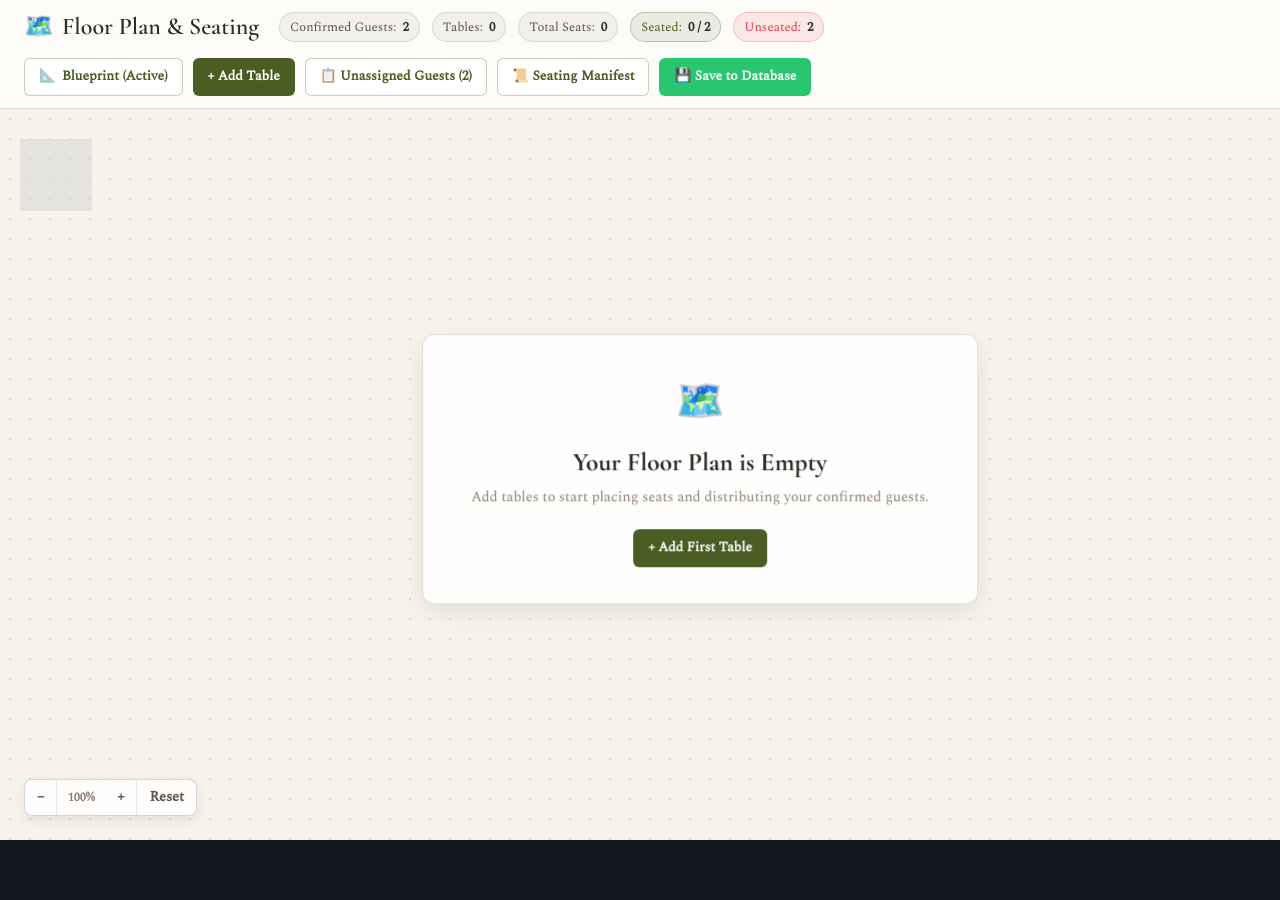
FloorPlanView Component › renders reference blueprint layer on canvas and allows adjusting opacity, scale, visibility, and removal
# Open reference controls panel
Click the button with test id "toggle-reference-controls-btn".
click(103, 77)  # box [24,58,183,96]
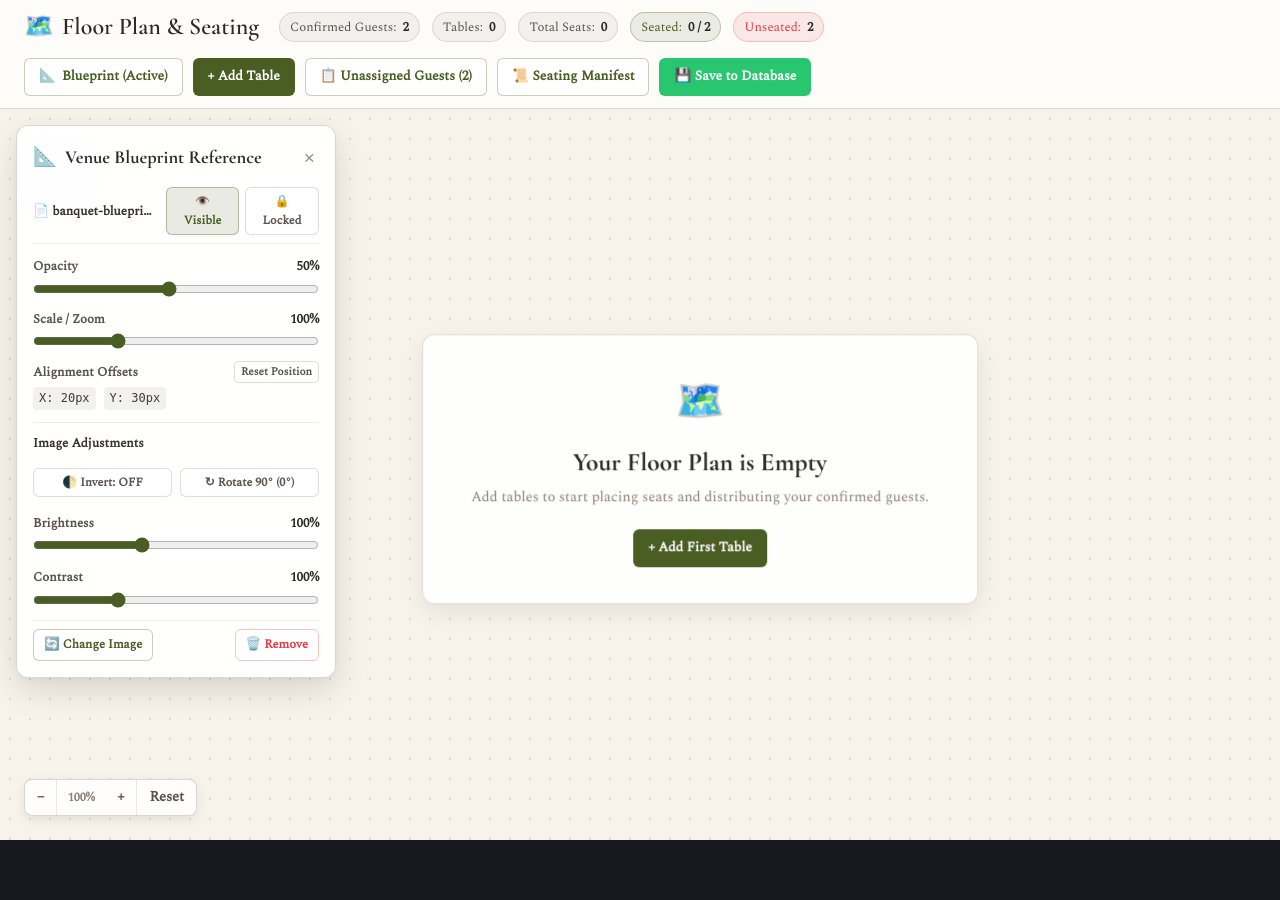
Check: the element with test id "blueprint-controls-panel" is shown, box [16,125,336,678]
Check: the text "📄 banquet-blueprint.png" is shown, box [33,201,158,221]
# Toggle visibility off
Click the button with test id "toggle-blueprint-visibility".
click(202, 211)  # box [166,187,239,235]
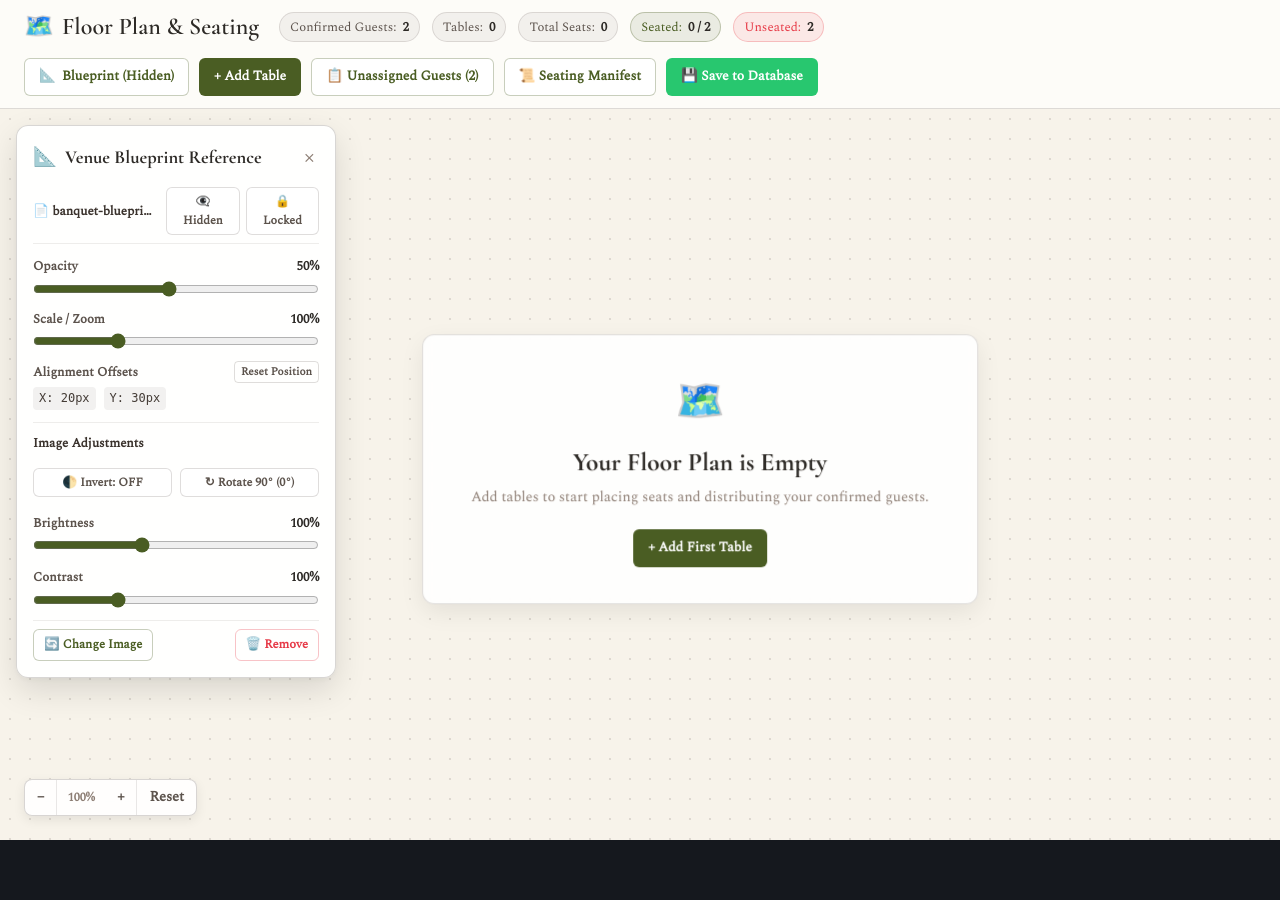
# Toggle visibility back on
Click the button with test id "toggle-blueprint-visibility".
click(203, 211)  # box [166,187,240,235]
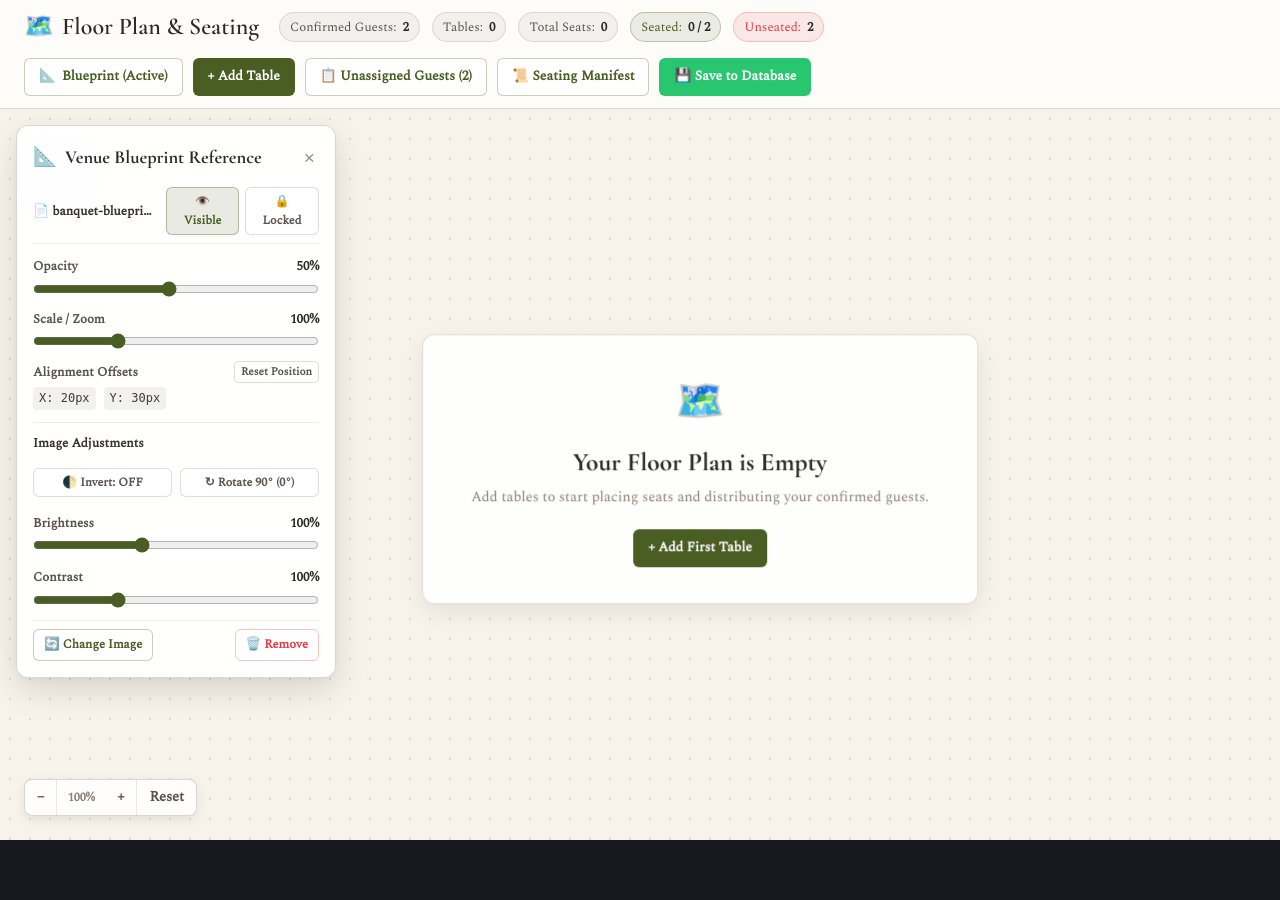
# Adjust Opacity slider
Set the slider with test id "blueprint-opacity-slider" to "0.8" at (254, 289), box [33,281,319,297]
# Adjust Scale slider
Set the slider with test id "blueprint-scale-slider" to "1.4" at (157, 341), box [33,333,319,349]
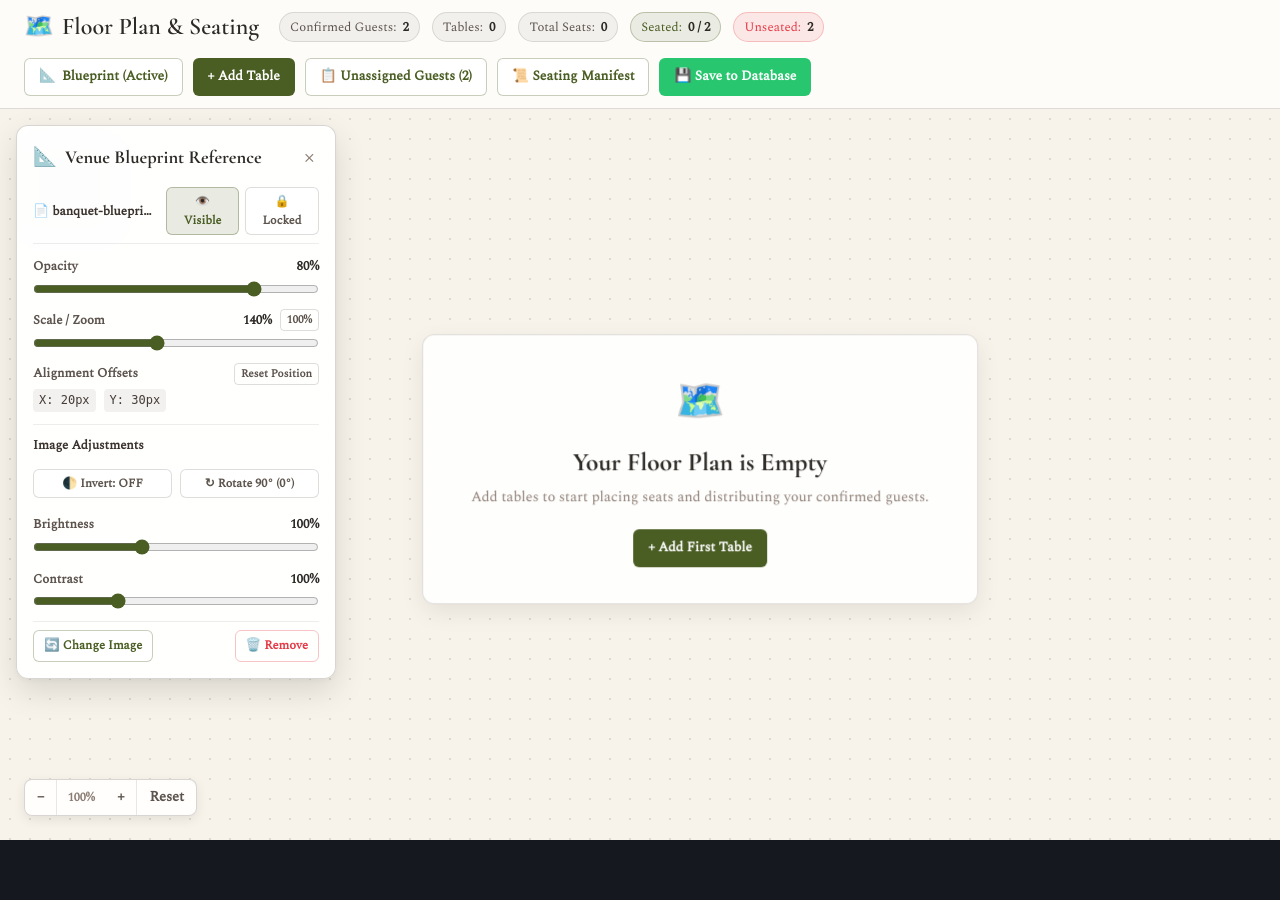
# Toggle Lock
Click the button with test id "toggle-blueprint-lock".
click(282, 211)  # box [245,187,319,235]
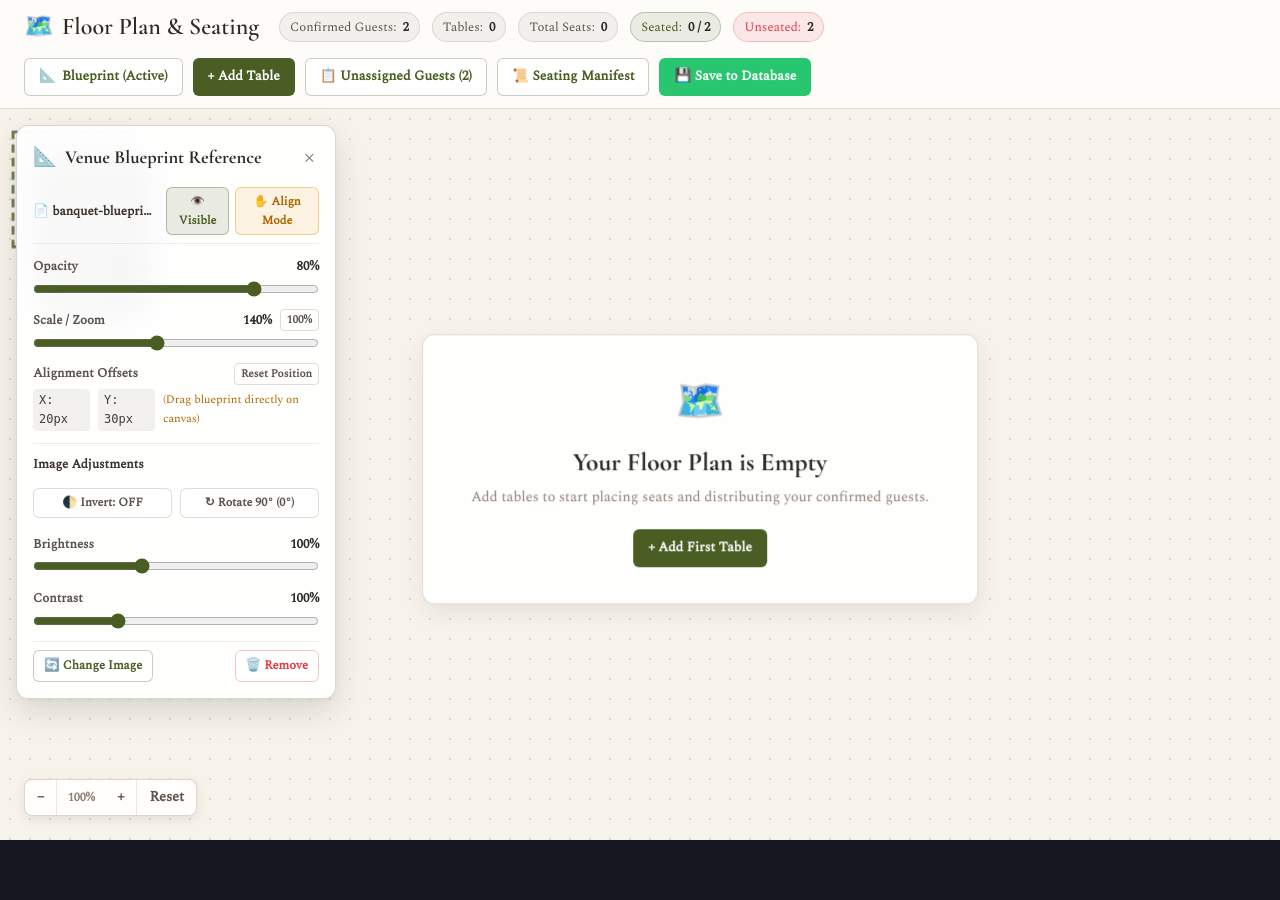
# Remove Blueprint
Click the button with test id "remove-blueprint-btn".
click(277, 666)  # box [235,650,319,682]
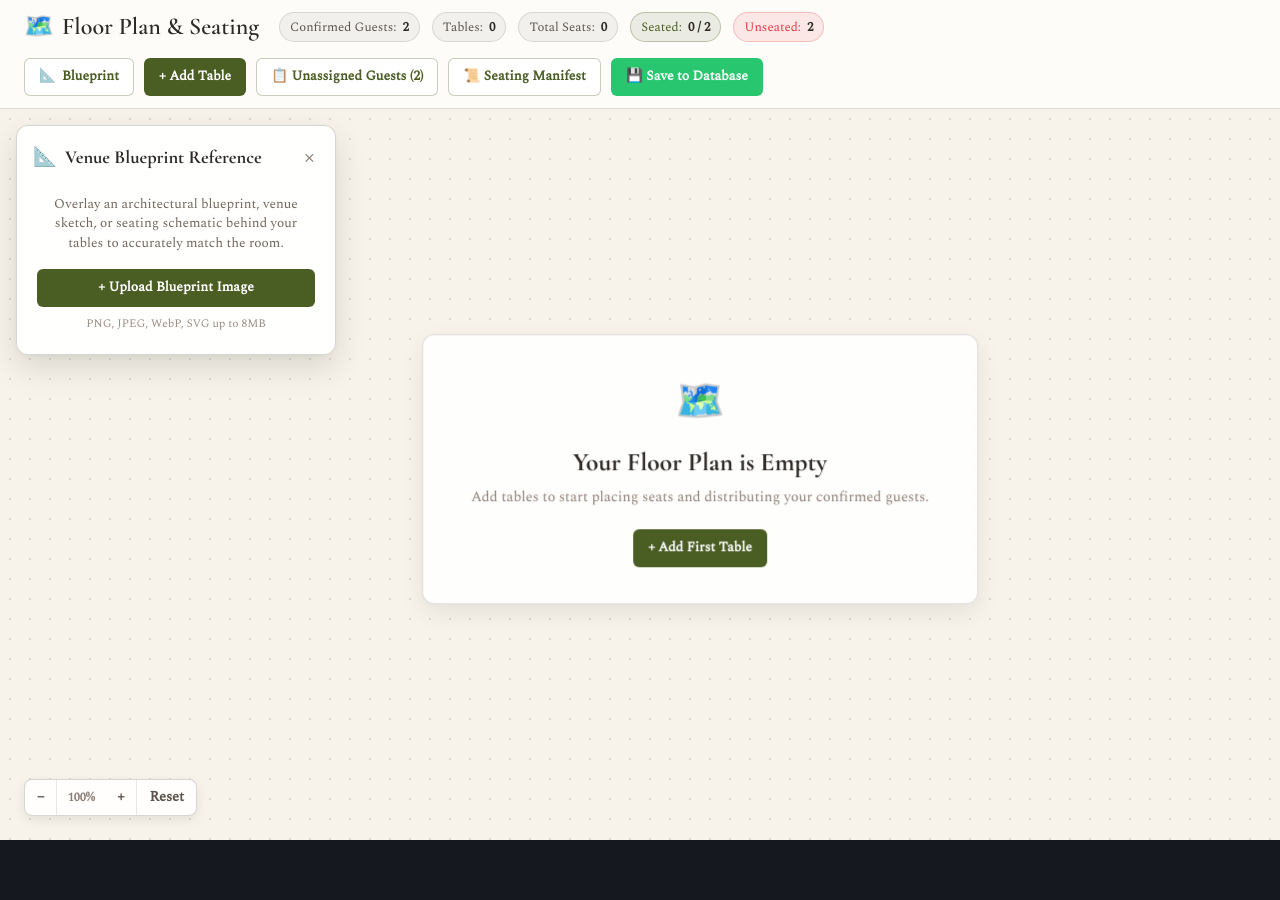
Check: the element with test id "floorplan-reference-layer" is gone
